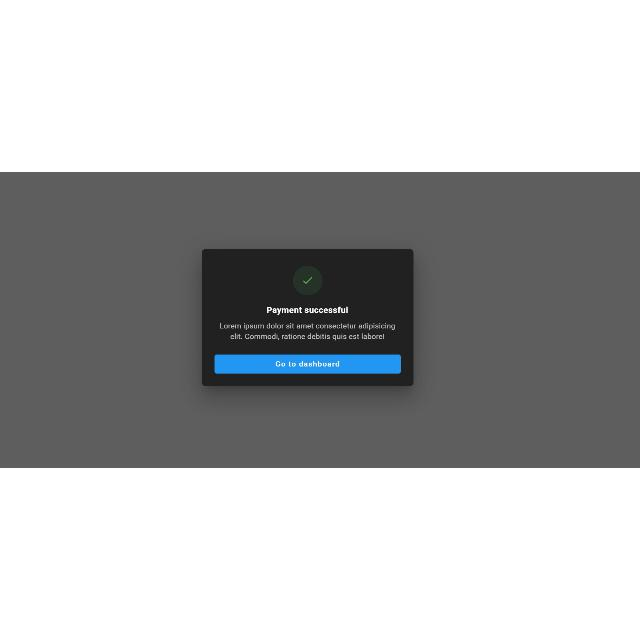QLabel: (218, 322, 396, 332), (230, 333, 384, 341), (274, 360, 340, 368)
VBtn: (215, 355, 402, 375)
VDialog: (201, 247, 415, 387)
VImg: (292, 266, 324, 296)
